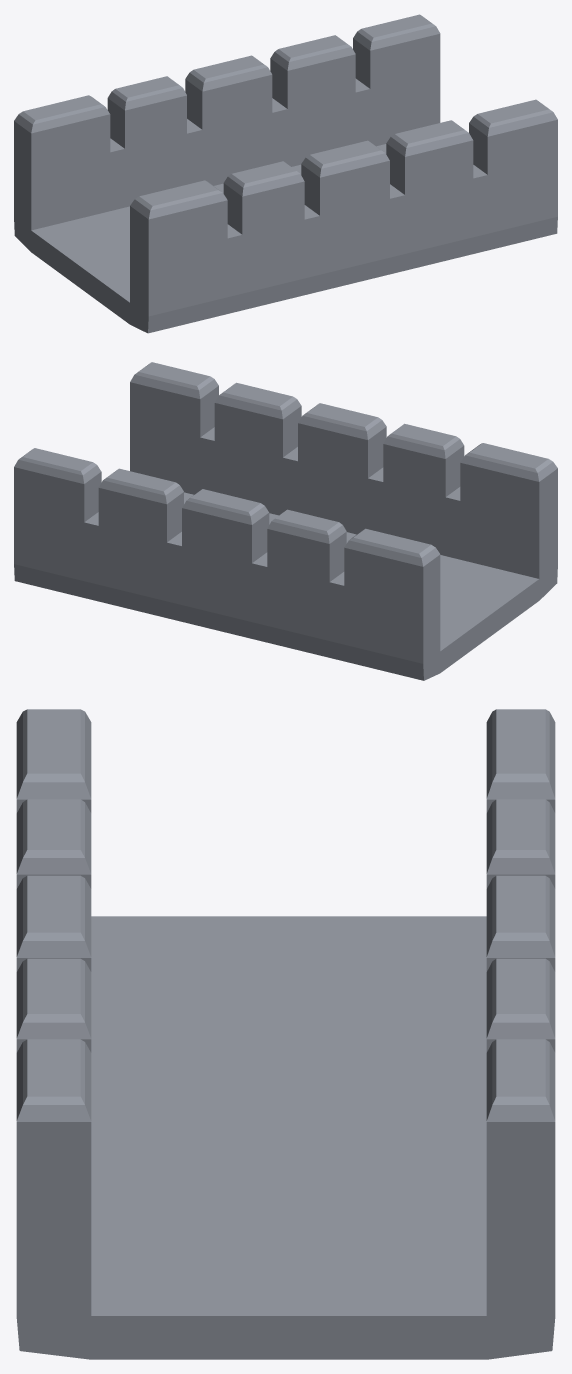
File: SM_wall_battlement_02.fbx
3 renders of one model, top to bottom at view 1: azimuth 30°, elevation 25°; view 2: azimuth 150°, elevation 25°; view 3: azimuth 270°, elevation 25°, orthographic. The views are drawn at different scales.
Visible parts, largest first — view 1: wall_battlement_02; view 2: wall_battlement_02; view 3: wall_battlement_02.
Boxes of the visible parts, x1,y1,x2,y2 form: wall_battlement_02: (14, 14, 557, 333); wall_battlement_02: (14, 362, 557, 680); wall_battlement_02: (16, 709, 555, 1359).
Size of the model in its own units: 510 by 153 by 291.
